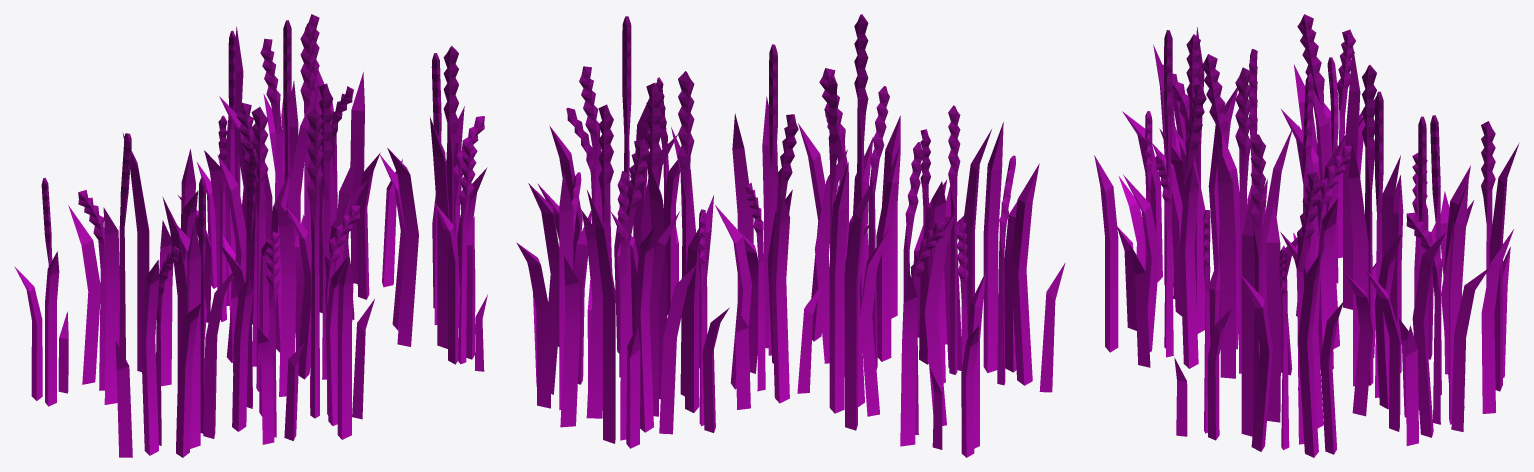
File: SM_Prop_Plant_Wheat_04.fbx
3 views of the same model, side by side, from view 1: azimuth 30°, elevation 25°; view 2: azimuth 150°, elevation 25°; view 3: azimuth 270°, elevation 25° (orthographic). The views are drawn at different scales.
Visible parts, largest first — view 1: SM_Prop_Plant_Wheat_04; view 2: SM_Prop_Plant_Wheat_04; view 3: SM_Prop_Plant_Wheat_04.
Boxes of the visible parts, left/top/right/bottom form: SM_Prop_Plant_Wheat_04: left=14, top=14, right=487, bottom=457; SM_Prop_Plant_Wheat_04: left=516, top=14, right=1065, bottom=457; SM_Prop_Plant_Wheat_04: left=1094, top=14, right=1519, bottom=457.
Bounding box in the file's own units: 174 × 119 × 144.
